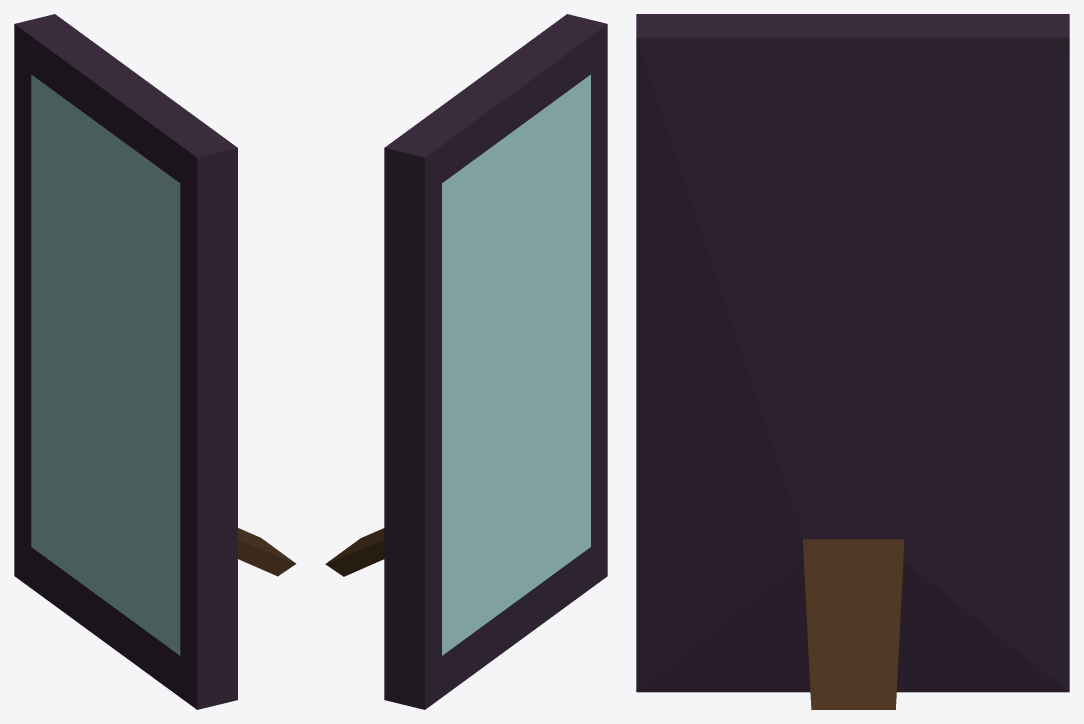
Rendered from Pic_frame_002.fbx.
3 renders of one model, left to right at view 1: azimuth 30°, elevation 25°; view 2: azimuth 150°, elevation 25°; view 3: azimuth 270°, elevation 25°, orthographic. The views are drawn at different scales.
Parts seen in each view (by area): view 1: Pic frame.002; view 2: Pic frame.002; view 3: Pic frame.002.
Boxes of the visible parts, x1,y1,x2,y2 form: Pic frame.002: [14, 14, 296, 709]; Pic frame.002: [325, 14, 607, 709]; Pic frame.002: [636, 14, 1069, 709].
Size of the model in its own units: 35.3 by 108 by 64.55.
